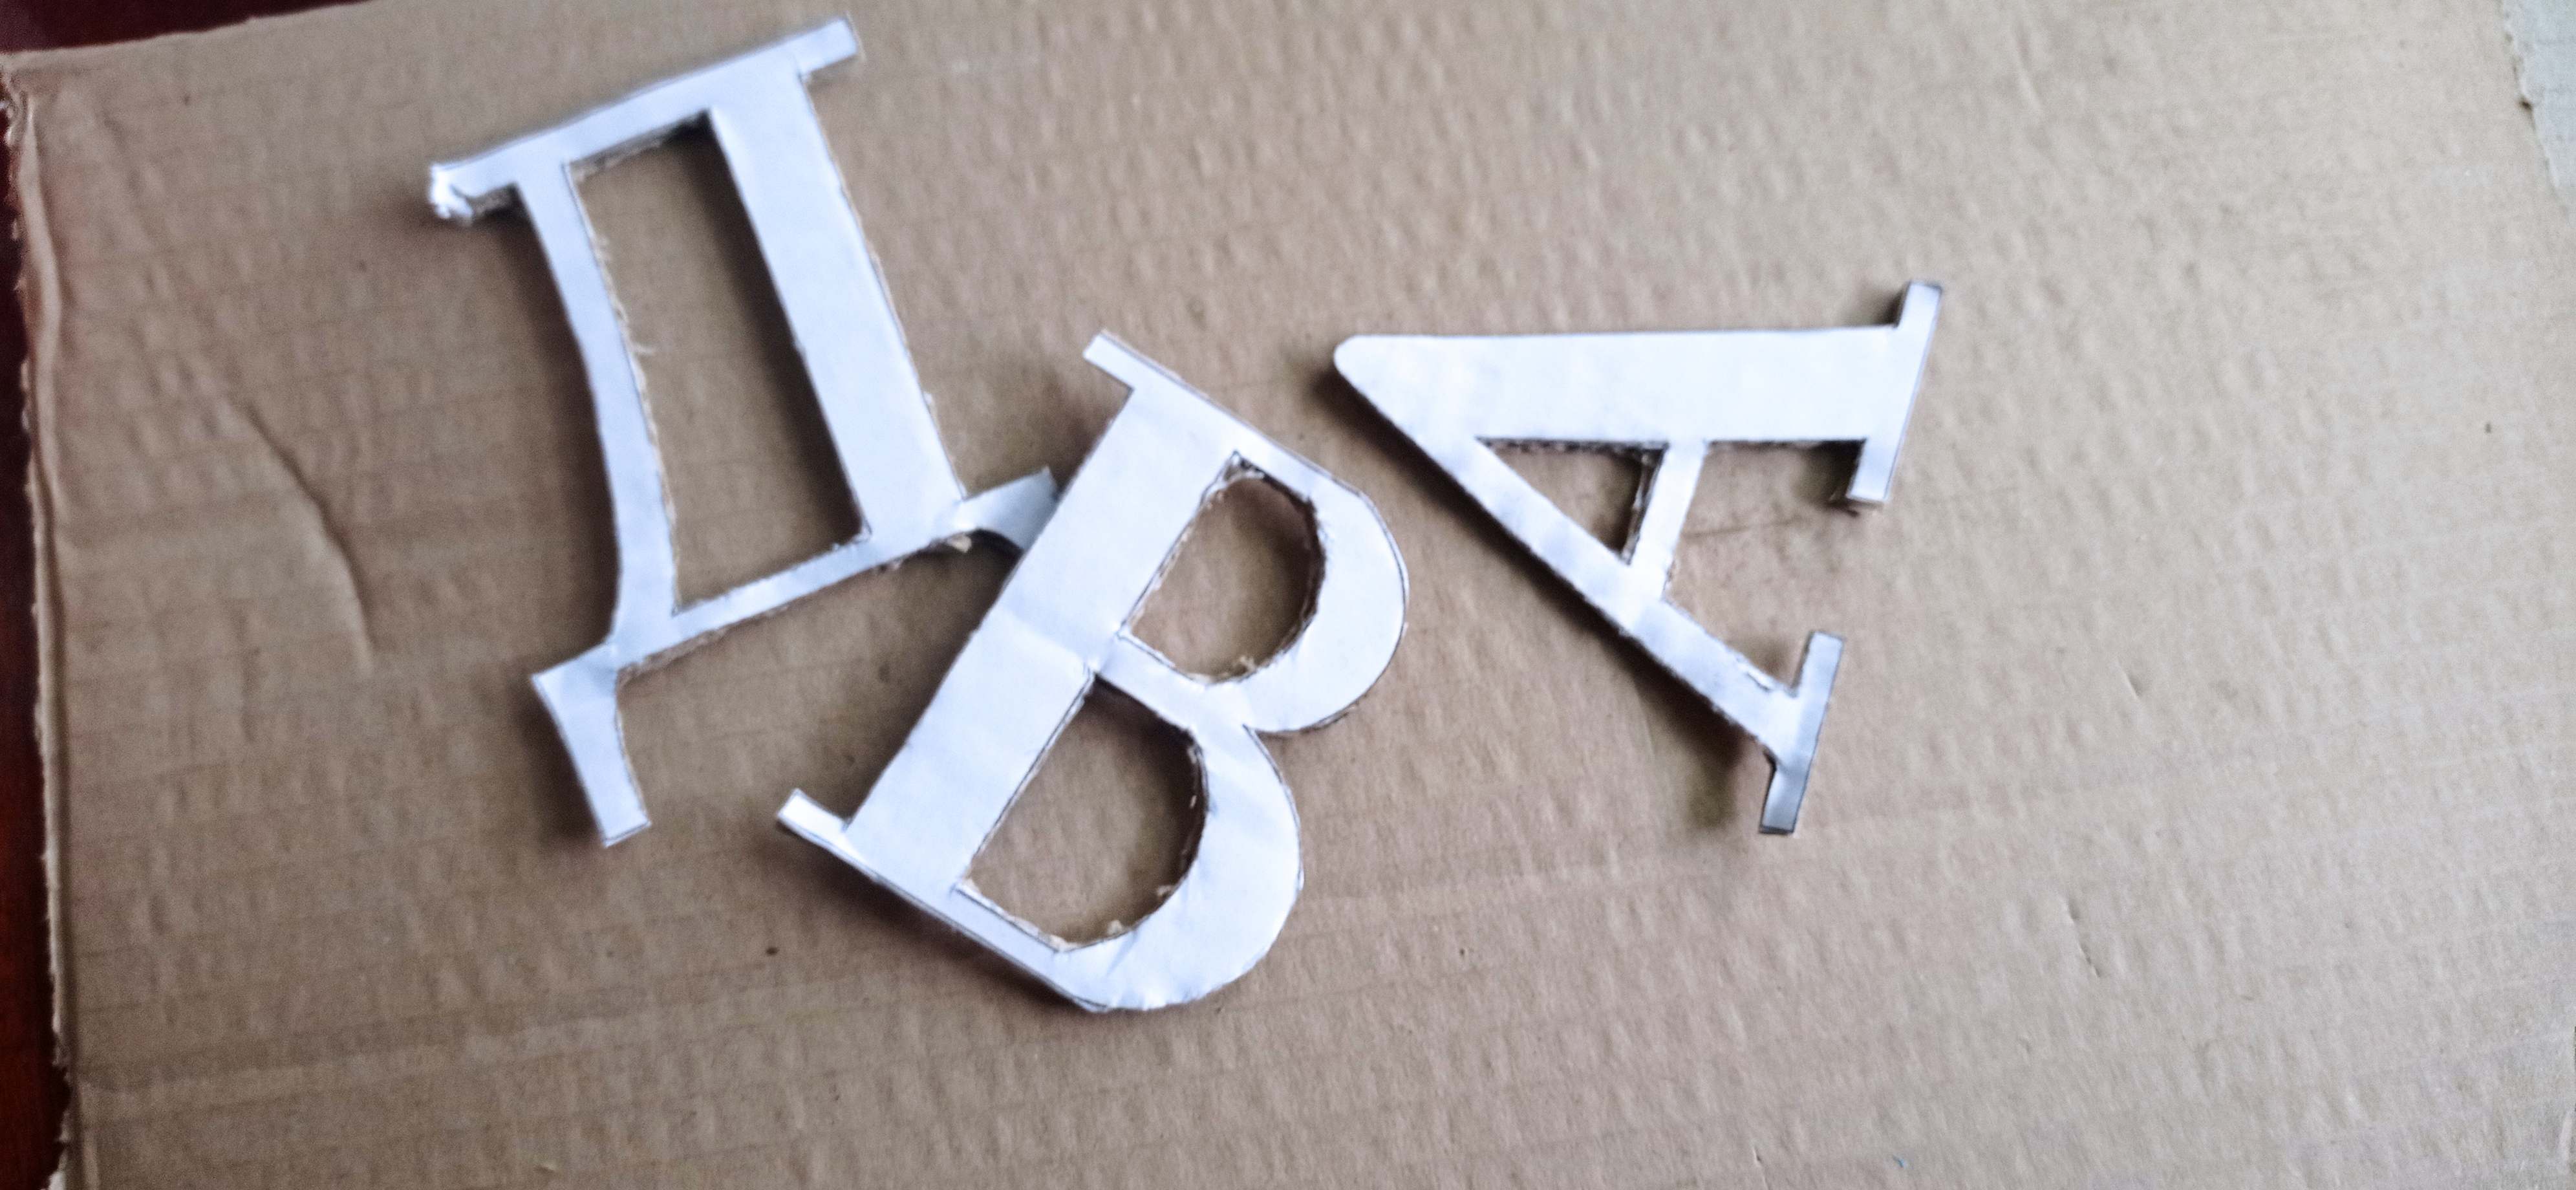a: (1331, 276, 1947, 843)
d: (425, 16, 1066, 842)
v: (769, 322, 1410, 1022)
